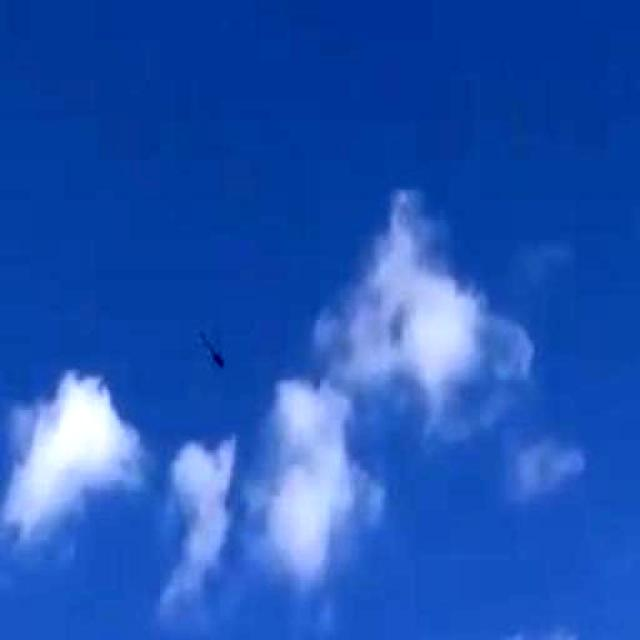drone: (175, 318, 249, 390)
